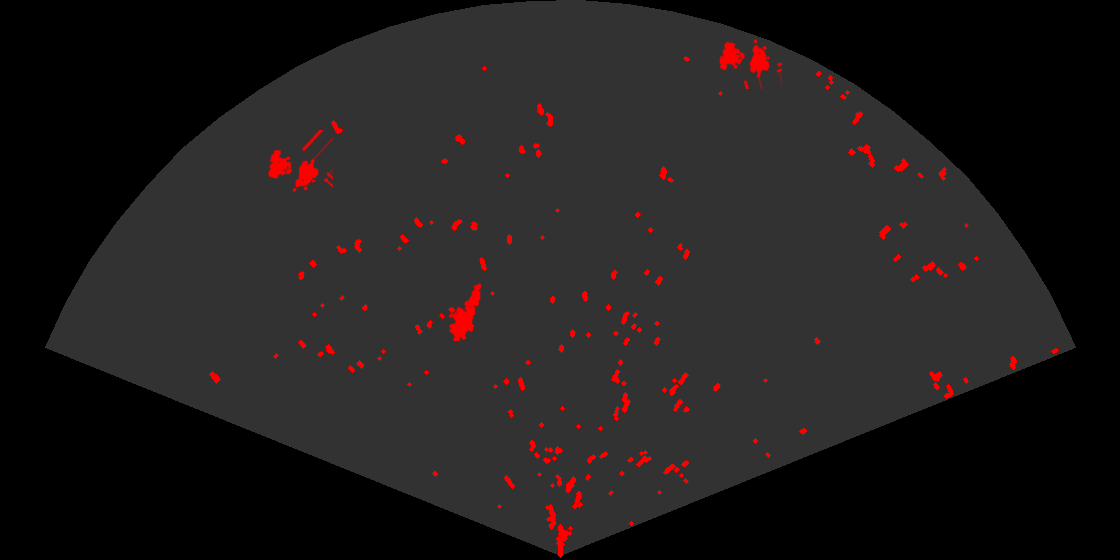cage: (266, 130, 333, 194), (717, 37, 782, 89)
frogman: (447, 281, 483, 341)
